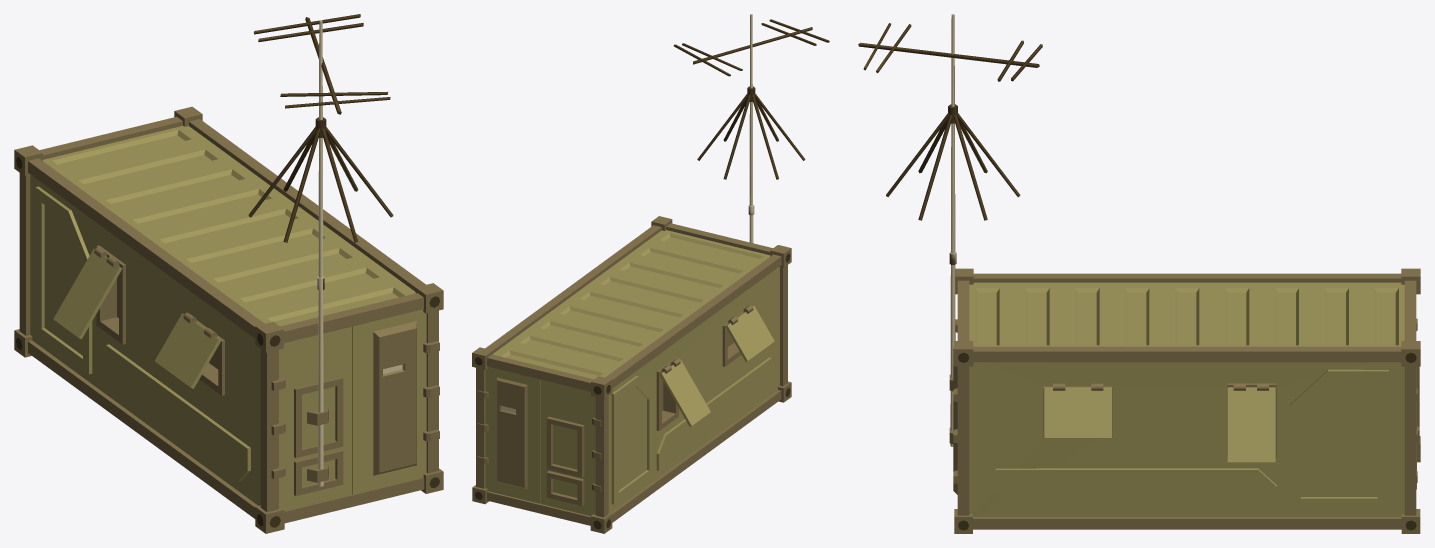
File: Radiostation1.fbx
3 views of the same model, side by side, from view 1: azimuth 30°, elevation 25°; view 2: azimuth 150°, elevation 25°; view 3: azimuth 270°, elevation 25° (orthographic). The views are drawn at different scales.
Visible parts, largest first — view 1: radiostation_001; view 2: radiostation_001; view 3: radiostation_001.
Boxes of the visible parts, <box> form: radiostation_001: <box>14,14,443,533</box>; radiostation_001: <box>472,14,829,533</box>; radiostation_001: <box>858,14,1420,533</box>.
Size of the model in its own units: 363 by 675 by 742.
